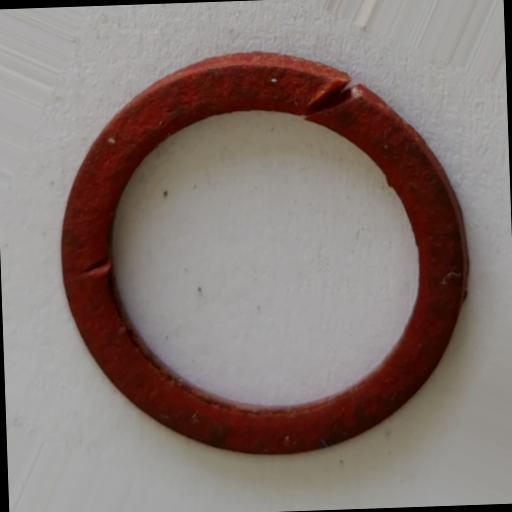defect: (302, 76, 362, 118), (76, 253, 112, 278)
